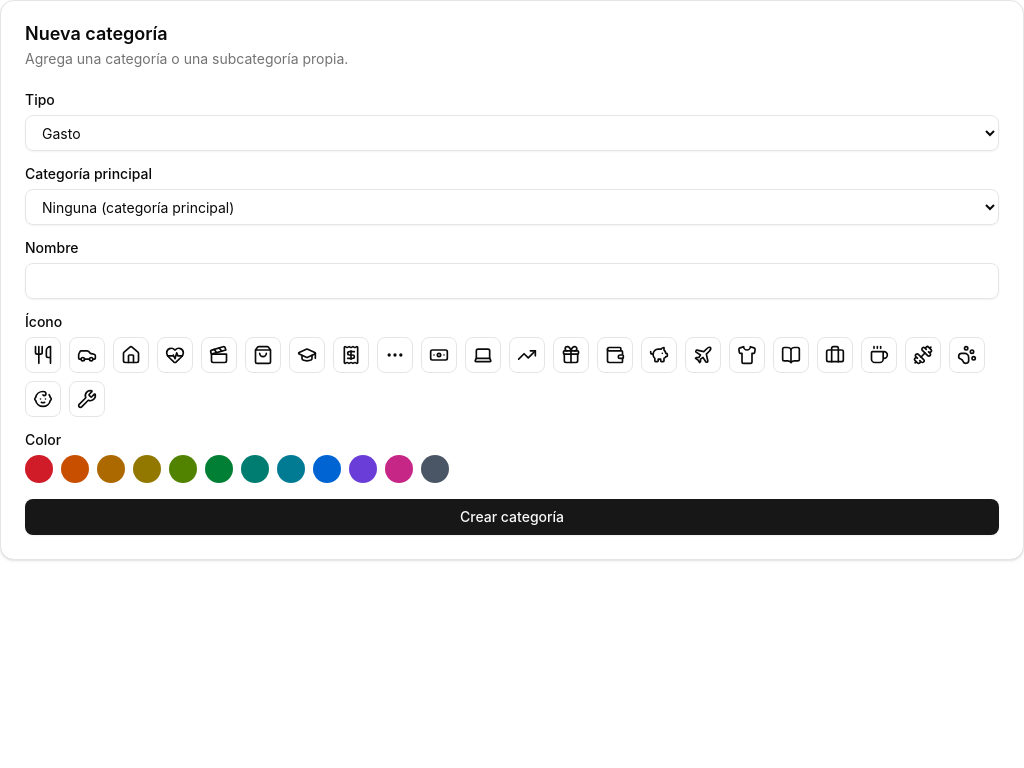
Test: CreateCategoryContainer › shows the duplicate-name message on the name field (AC-11)
The image size is (1024, 768).
Step 1. Type "Comida" into the field labelled "Nombre" → (512,281), box [25, 263, 999, 299]
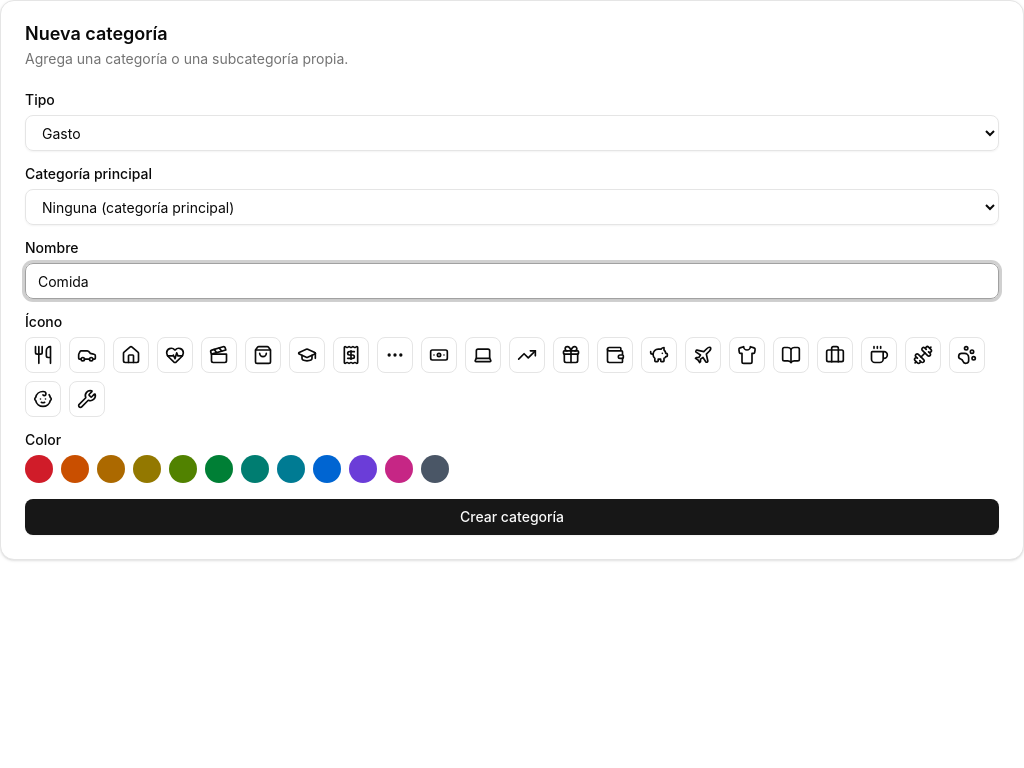
Step 2. Click the radio button named "Café" → (879,355), box [861, 337, 897, 373]
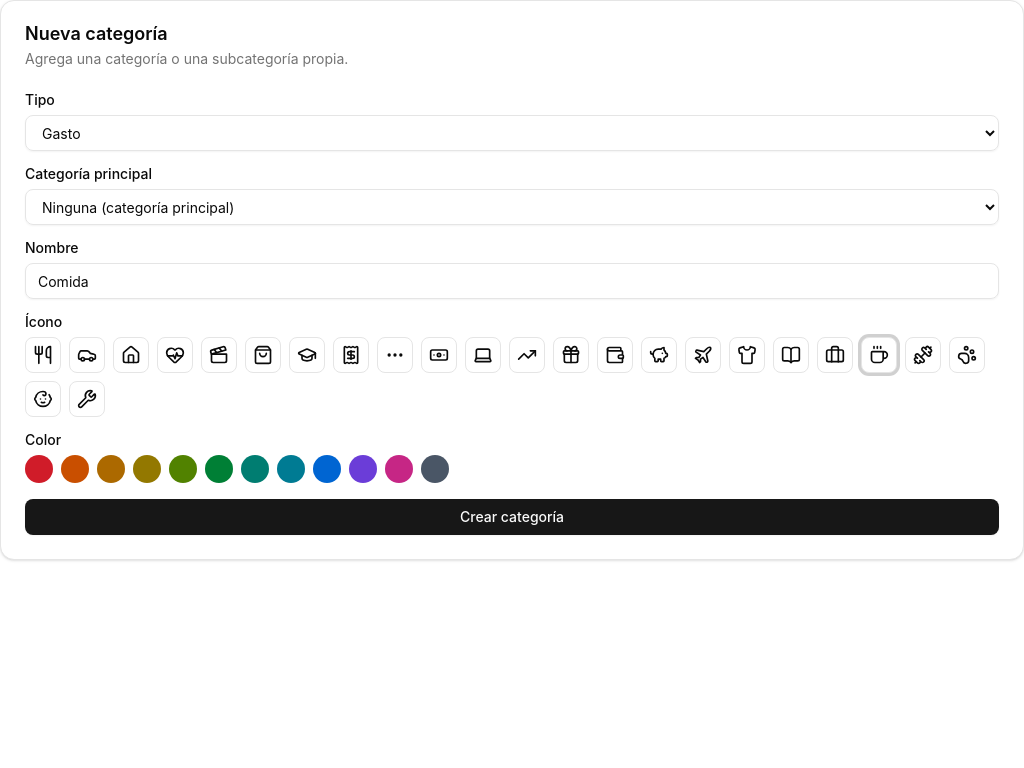
Step 3. Click the radio button named "Ámbar" → (111,469), box [97, 455, 125, 483]
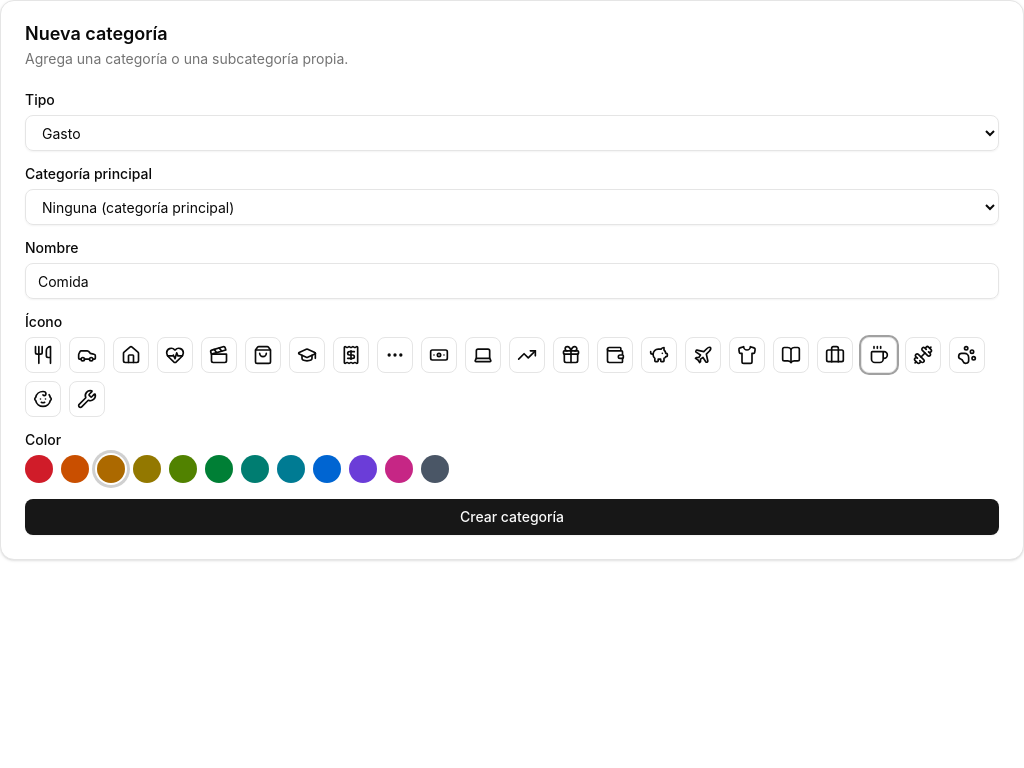
Step 4. Click the button "Crear categoría" → (512,517), box [25, 499, 999, 535]
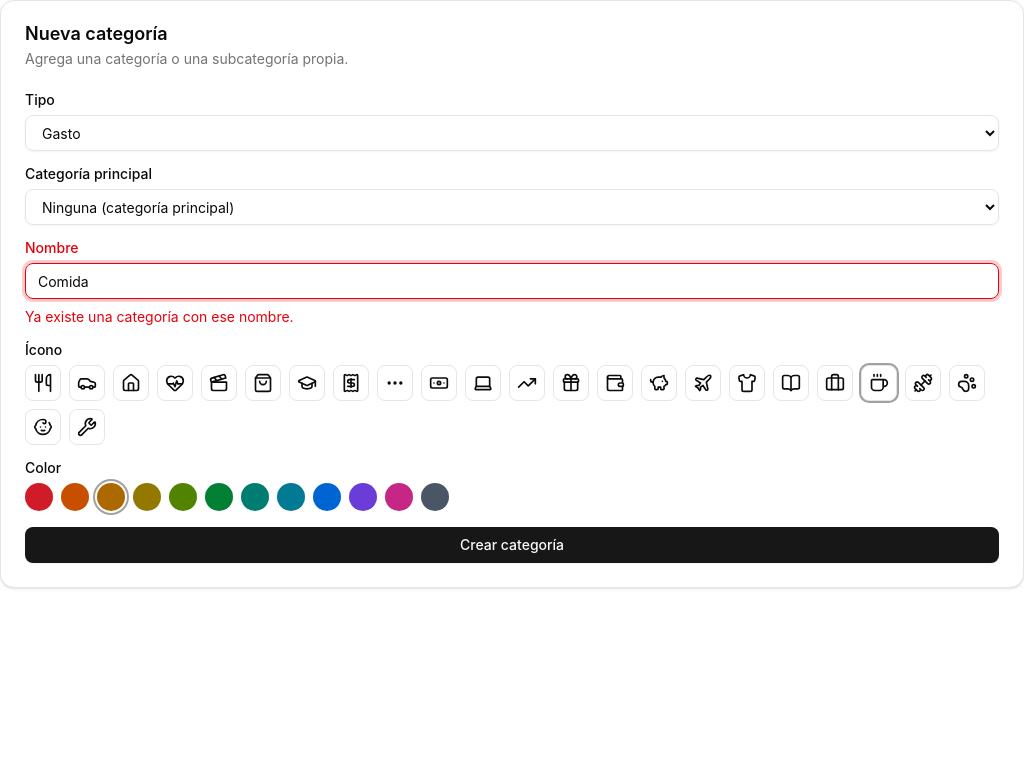
Check: the text "Ya existe una categoría con ese nombre." is shown, box [25, 308, 294, 325]
